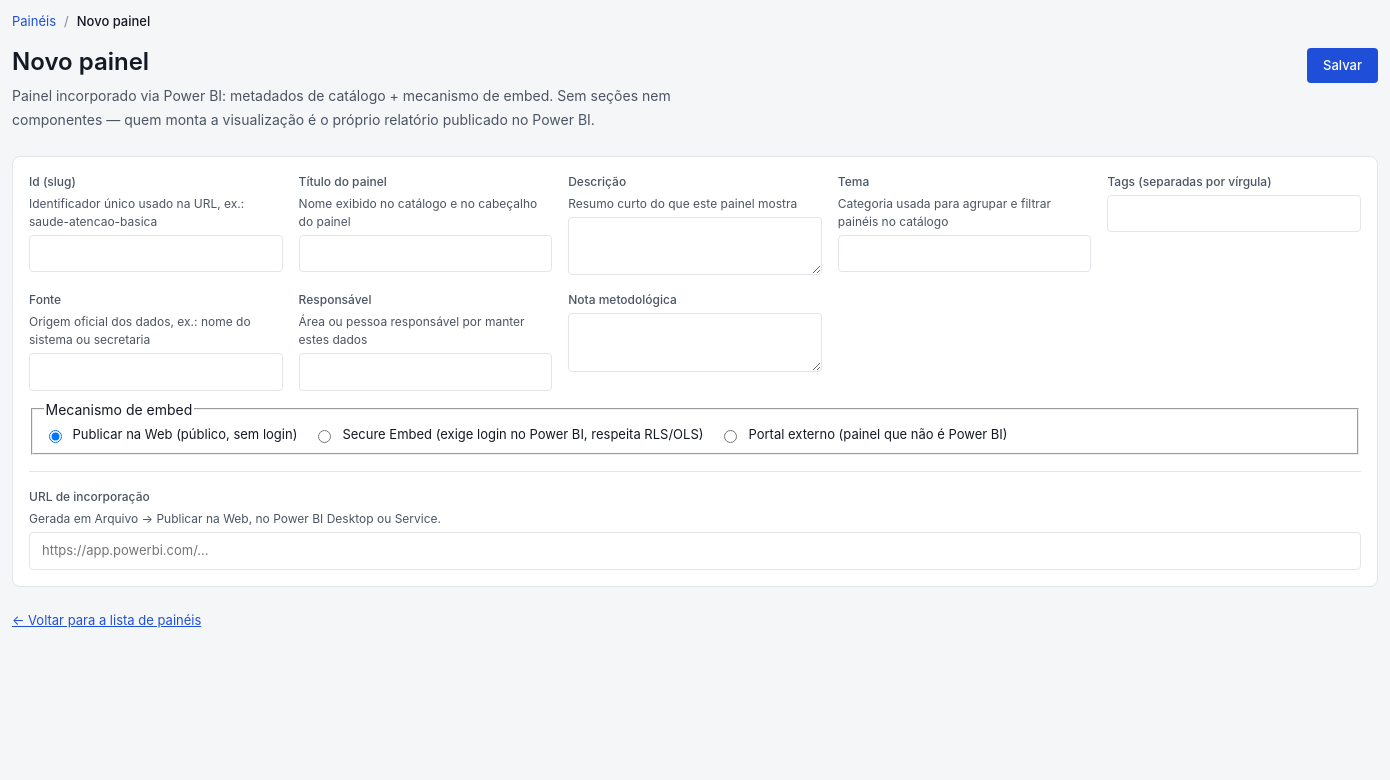
Test case: PanelEditorPage › troca a dica da URL de embed ao trocar para Secure Embed
Step 1. Click the radio button labelled "Secure Embed (exige login no Power BI, respeita RLS/OLS)" → coordinates (325, 436), box [318, 430, 331, 442]
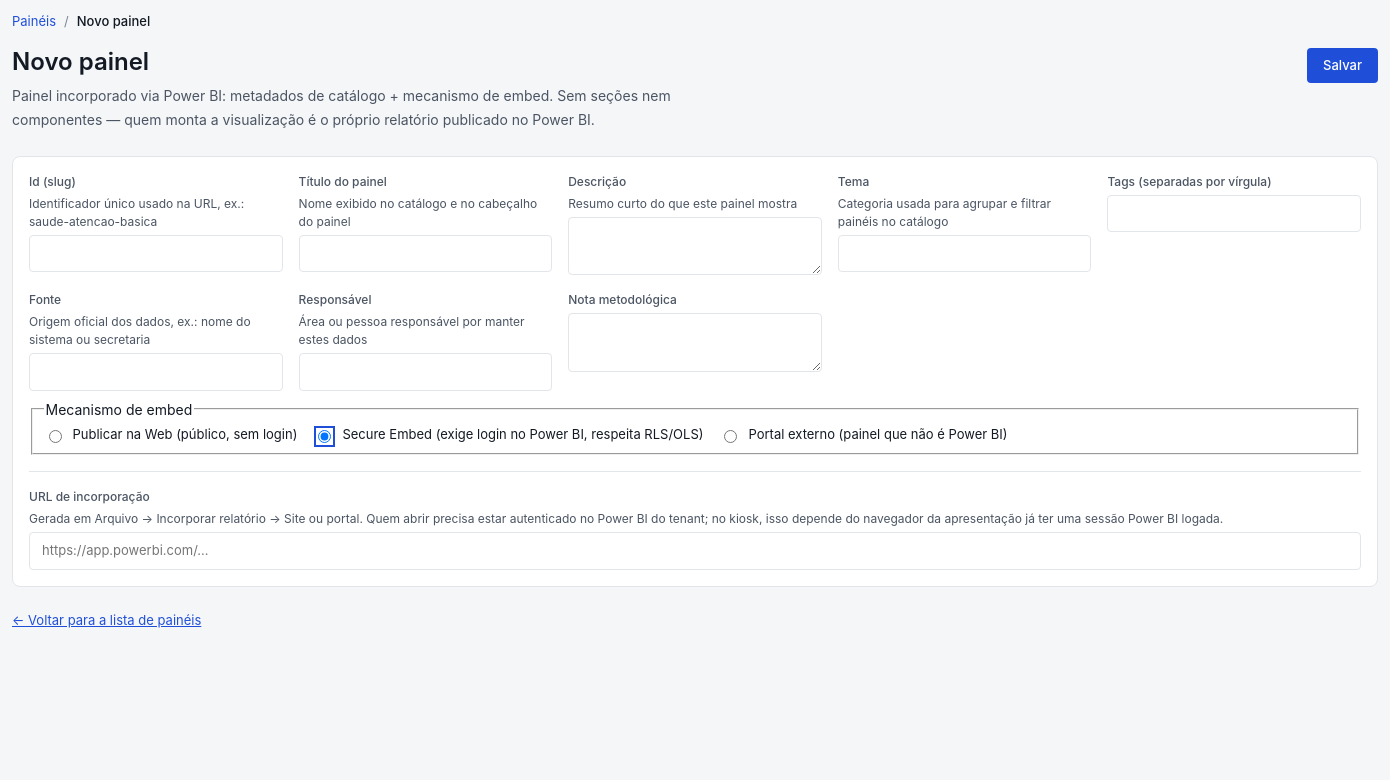
Expected: the field labelled "URL de incorporação" is shown, [29, 532, 1361, 570]
Expected: the text "Incorporar relatório → Site ou portal" is shown, [29, 511, 1223, 526]
